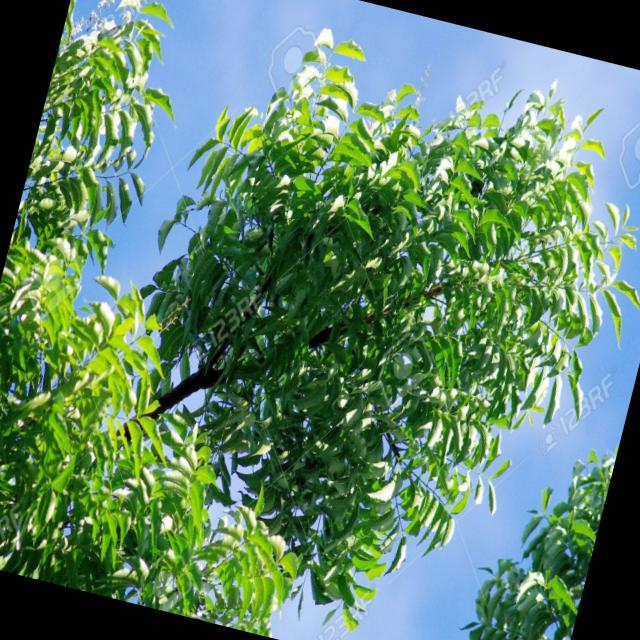Medicinal-Neem: (156, 39, 640, 640), (0, 297, 341, 632), (0, 0, 207, 323)
